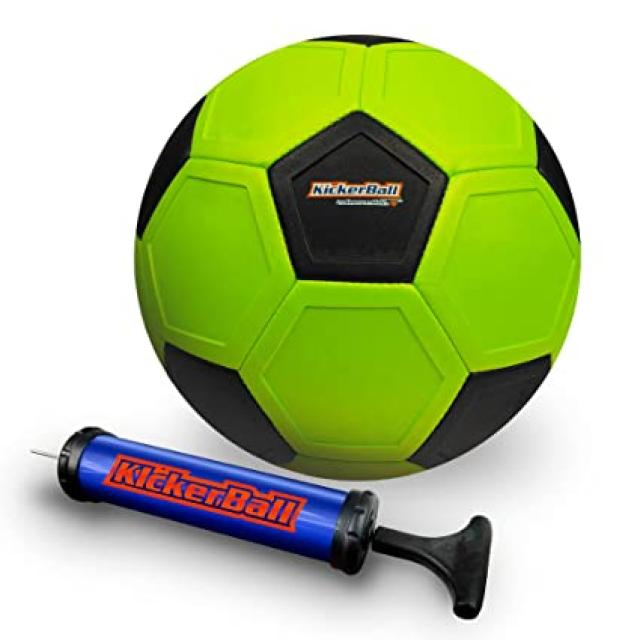soccer ball: (130, 31, 584, 484)
